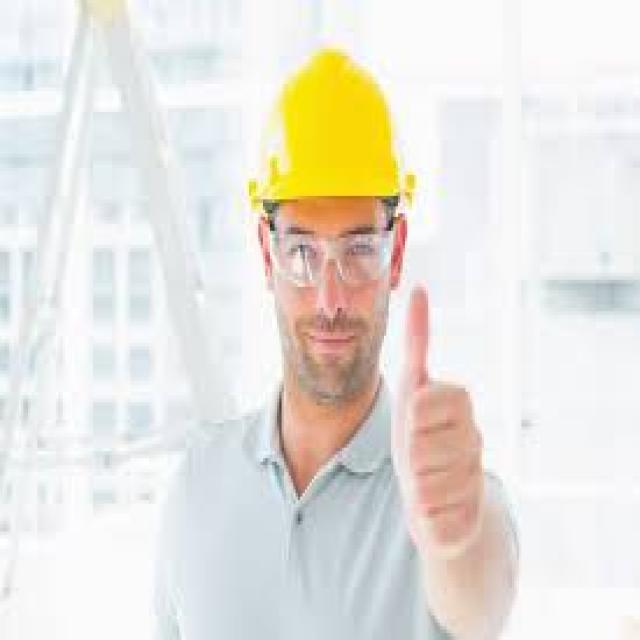glasses: (265, 217, 394, 293)
